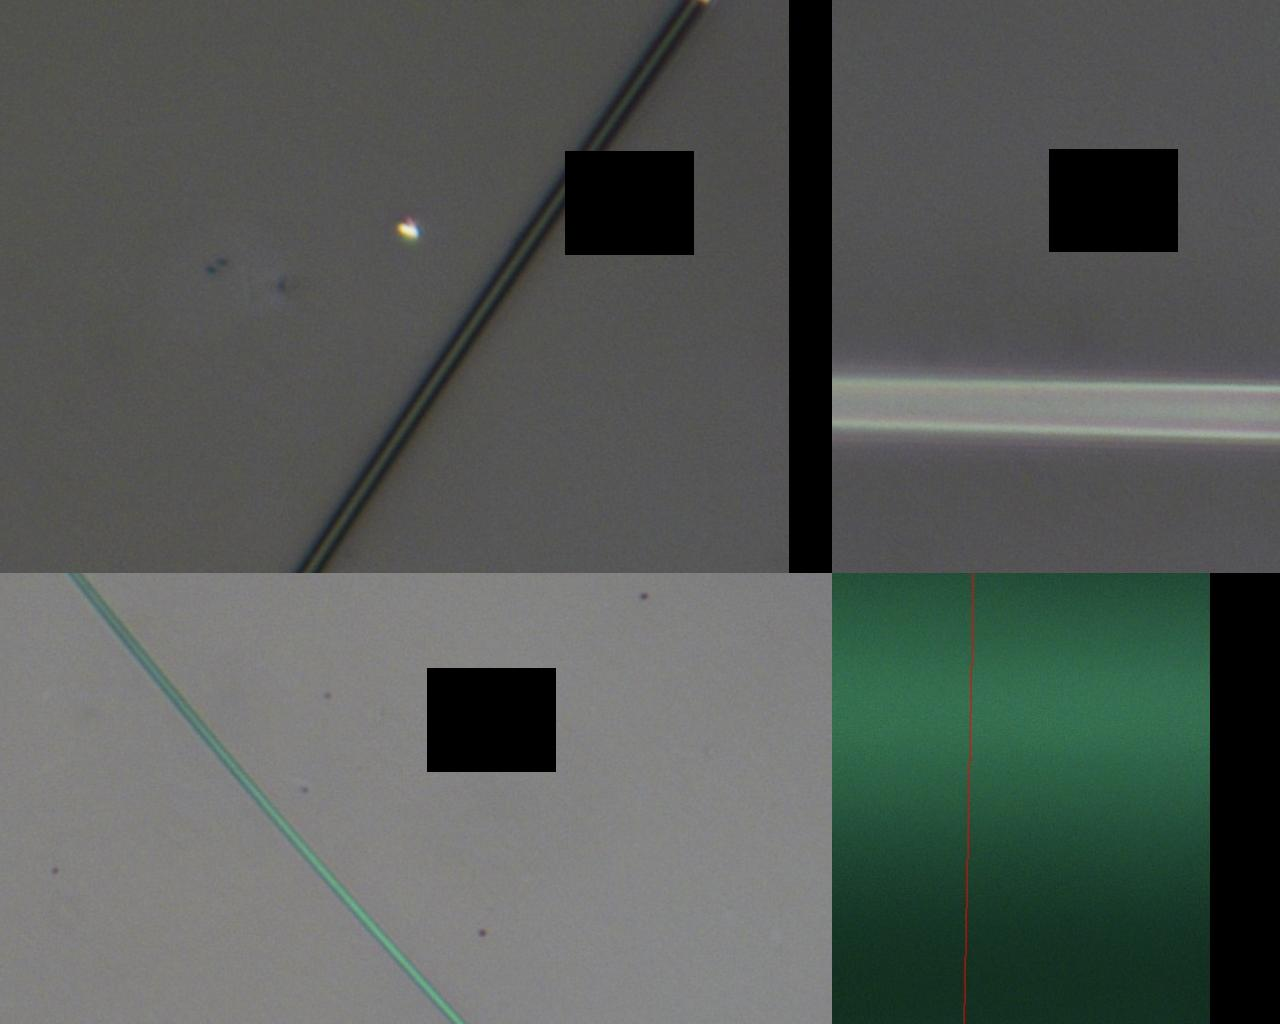fiber: (451, 0, 728, 573)
